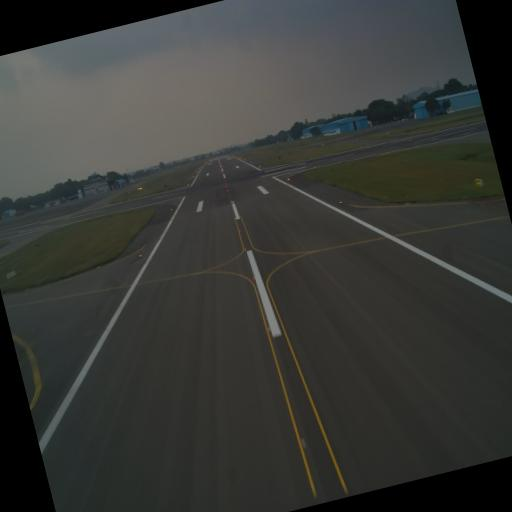on: (266, 324, 273, 336), (252, 274, 258, 282), (338, 198, 344, 206), (243, 247, 249, 254), (138, 252, 144, 259)
